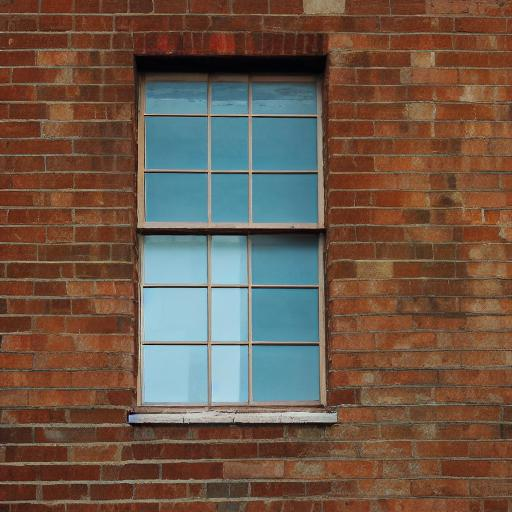Window: (126, 54, 340, 426)
